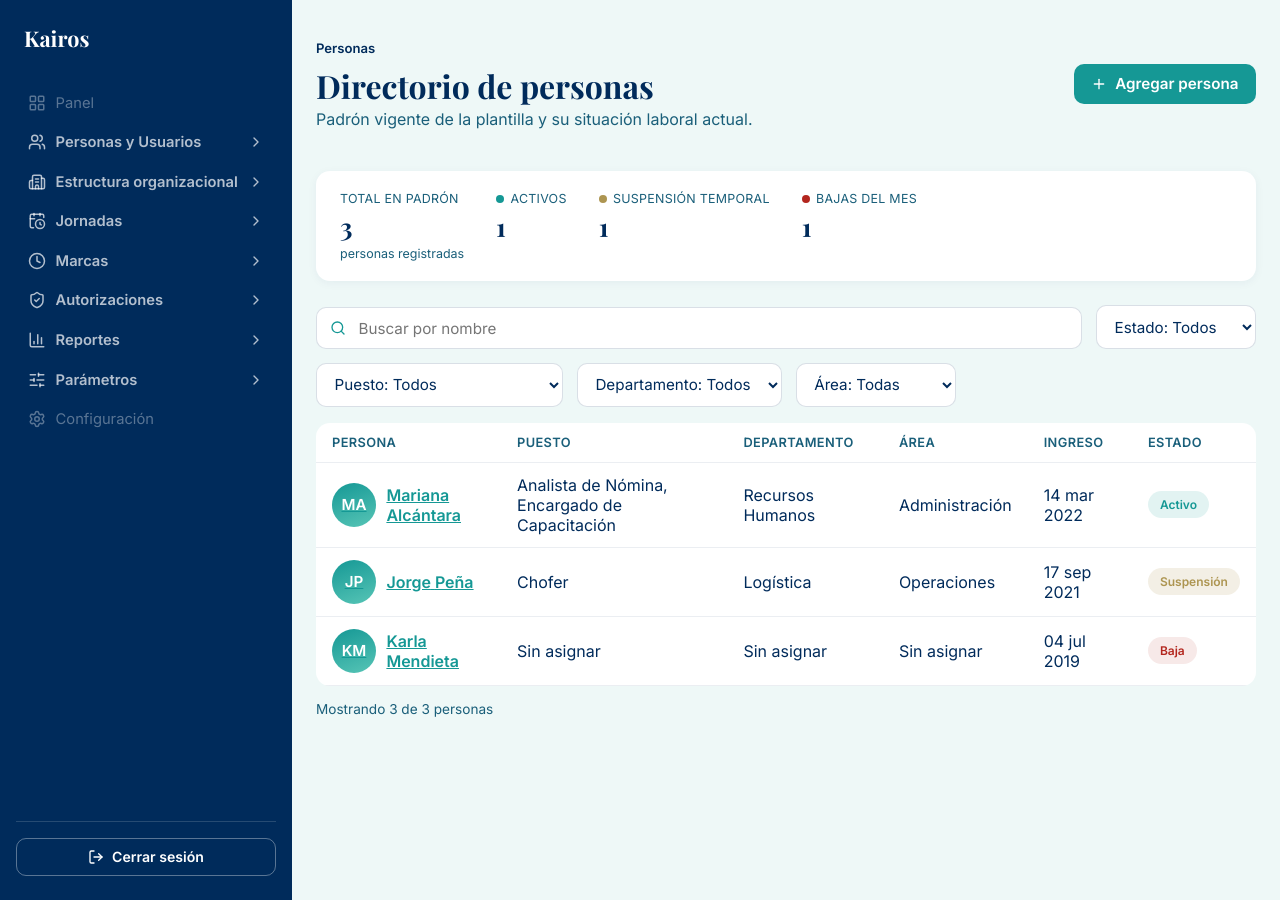
Test case: DirectorioPersonasPage › filtra por departamento
Expected: the link "MA Mariana Alcántara" is shown, [332,482,461,526]
Select "Logística" in the dropdown named "filtrar por departamento" at [679, 385], box [577,363,782,407]
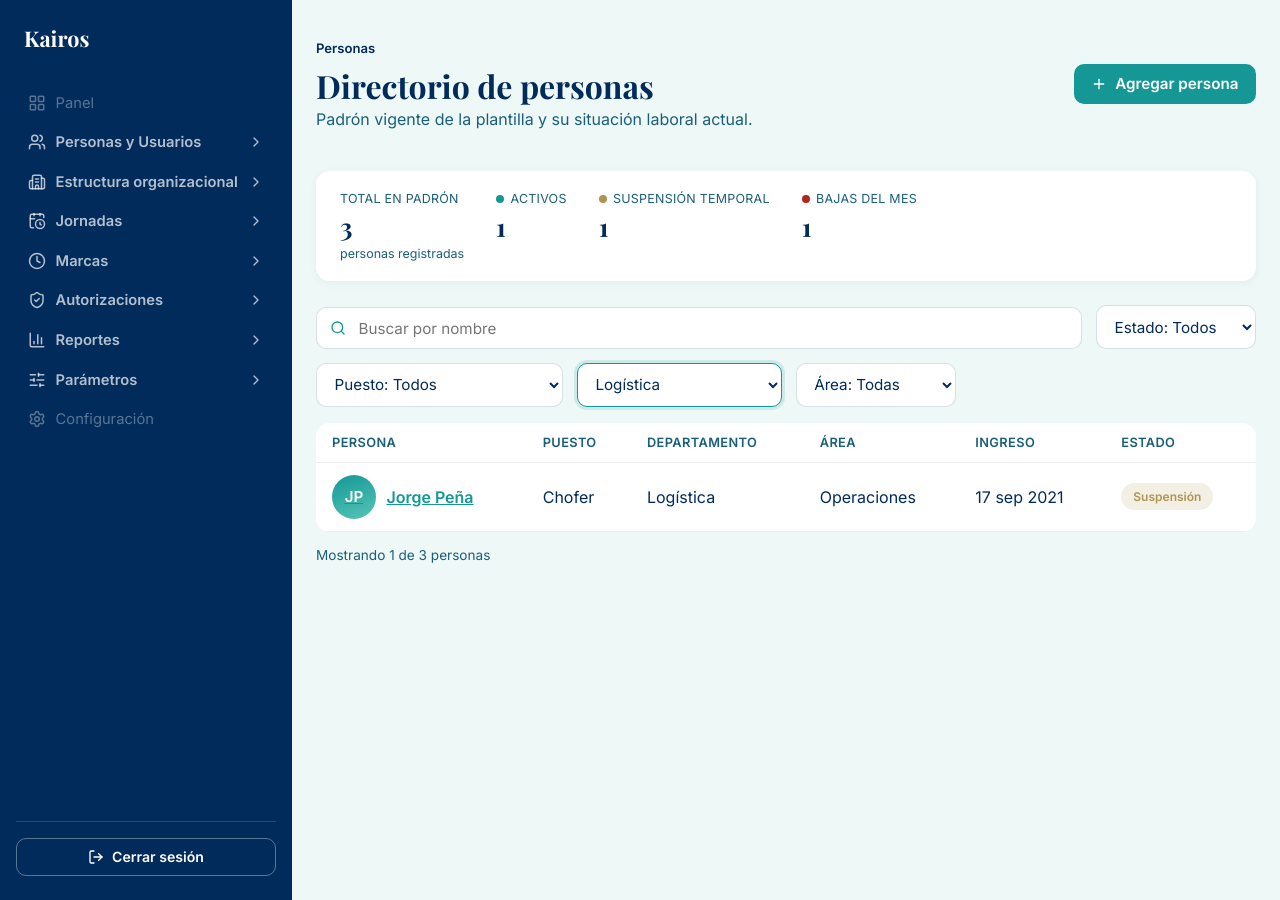
Expected: the link "Jorge Peña" is shown, [332,474,474,518]
Now the link "Mariana Alcántara" is gone
